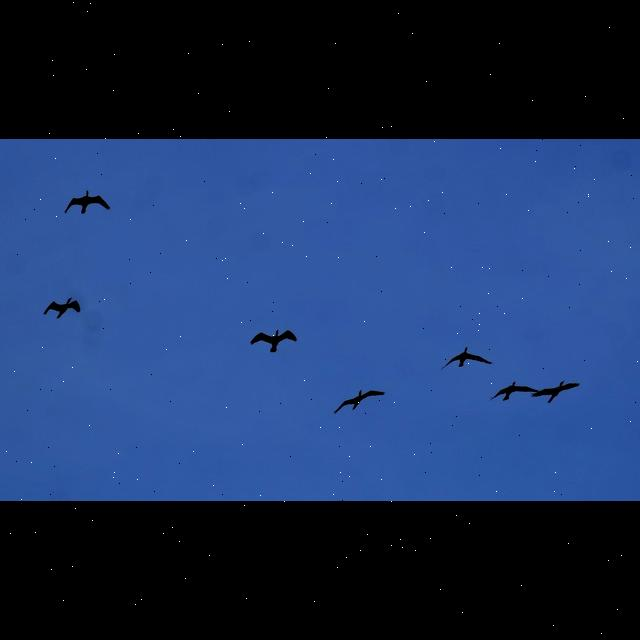cormorant: (331, 380, 389, 420), (66, 187, 112, 217), (442, 345, 492, 371), (250, 328, 298, 354), (534, 379, 582, 403), (43, 294, 81, 320)
